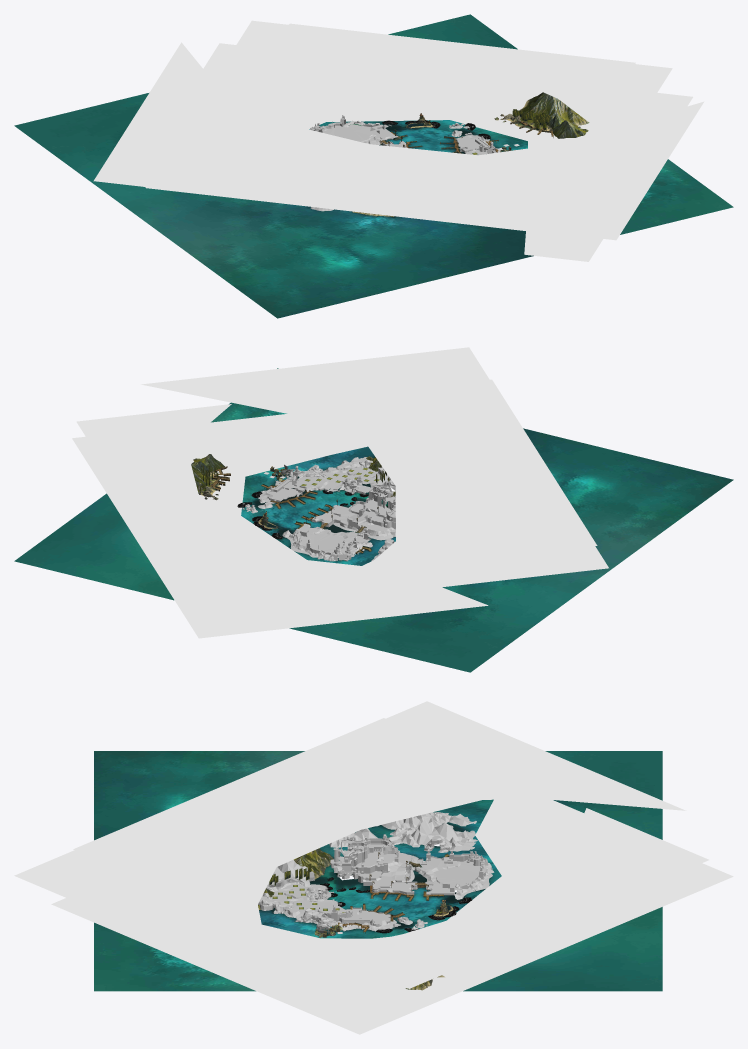
Rendered from @TerritoryRoot.fbx.
3 views of the same model, one above another, from view 1: azimuth 30°, elevation 25°; view 2: azimuth 150°, elevation 25°; view 3: azimuth 270°, elevation 25° (orthographic). The views are drawn at different scales.
Visible parts, largest first — view 1: T_Cloud_Bottom_up (×2), T_WaterPlane, T_Cloud_Bottom (×2), T_Foam_Plane_01, T_D_MountCoast_01, T_D_Mountain_02, T_C_Floor_02; view 2: T_Cloud_Bottom_up (×2), T_WaterPlane, T_Cloud_Bottom (×2), T_Foam_Plane_01, T_A_Floor_03, T_C_Floor_02, T_D_MountCoast_01, T_B_Floor_02, T_B_Floor_03, T_C_FortressWall_02; view 3: T_Cloud_Bottom_up (×2), T_WaterPlane, T_Cloud_Bottom (×2), T_Foam_Plane_01, T_D_CaveCliff_01, T_A_Floor_03, T_C_Floor_02, T_B_Floor_03, T_D_Mountain, T_B_Floor_02, T_C_FortressWall_02, T_D_Fortress_01.
Part boxes in pixels (x1=…): T_Cloud_Bottom_up (×2): x1=93, y1=42, x2=704, y2=240; T_WaterPlane: x1=14, y1=14, x2=733, y2=318; T_Cloud_Bottom (×2): x1=213, y1=20, x2=672, y2=126; T_Foam_Plane_01: x1=203, y1=43, x2=692, y2=261; T_D_MountCoast_01: x1=494, y1=98, x2=588, y2=138; T_D_Mountain_02: x1=520, y1=92, x2=589, y2=125; T_C_Floor_02: x1=321, y1=124, x2=382, y2=144; T_Cloud_Bottom_up (×2): x1=141, y1=347, x2=608, y2=605; T_WaterPlane: x1=14, y1=368, x2=733, y2=672; T_Cloud_Bottom (×2): x1=76, y1=404, x2=335, y2=599; T_Foam_Plane_01: x1=72, y1=414, x2=488, y2=638; T_A_Floor_03: x1=295, y1=466, x2=388, y2=491; T_C_Floor_02: x1=300, y1=528, x2=371, y2=553; T_D_MountCoast_01: x1=192, y1=454, x2=230, y2=500; T_B_Floor_02: x1=333, y1=511, x2=395, y2=540; T_B_Floor_03: x1=311, y1=501, x2=365, y2=527; T_C_FortressWall_02: x1=282, y1=530, x2=335, y2=561; T_Cloud_Bottom_up (×2): x1=14, y1=701, x2=686, y2=985; T_WaterPlane: x1=94, y1=751, x2=662, y2=991; T_Cloud_Bottom (×2): x1=266, y1=808, x2=708, y2=1000; T_Foam_Plane_01: x1=51, y1=798, x2=733, y2=1034; T_D_CaveCliff_01: x1=273, y1=812, x2=477, y2=879; T_A_Floor_03: x1=266, y1=871, x2=352, y2=918; T_C_Floor_02: x1=414, y1=855, x2=480, y2=890; T_B_Floor_03: x1=358, y1=870, x2=417, y2=894; T_D_Mountain: x1=258, y1=848, x2=333, y2=909; T_B_Floor_02: x1=376, y1=852, x2=418, y2=881; T_C_FortressWall_02: x1=454, y1=862, x2=494, y2=899; T_D_Fortress_01: x1=333, y1=845, x2=364, y2=875.
Size of the model in its own units: 493 by 34.92 by 501.
